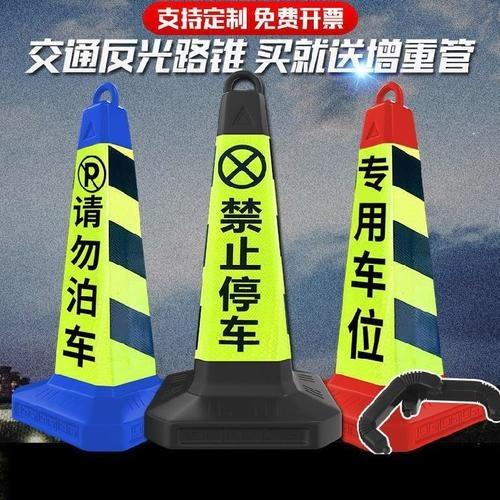cone_barrel: (152, 76, 324, 447), (16, 87, 174, 457), (305, 92, 460, 448)
